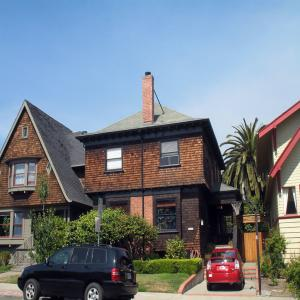Vehicle-registration-plate: (220, 266, 226, 271), (128, 274, 132, 279)
